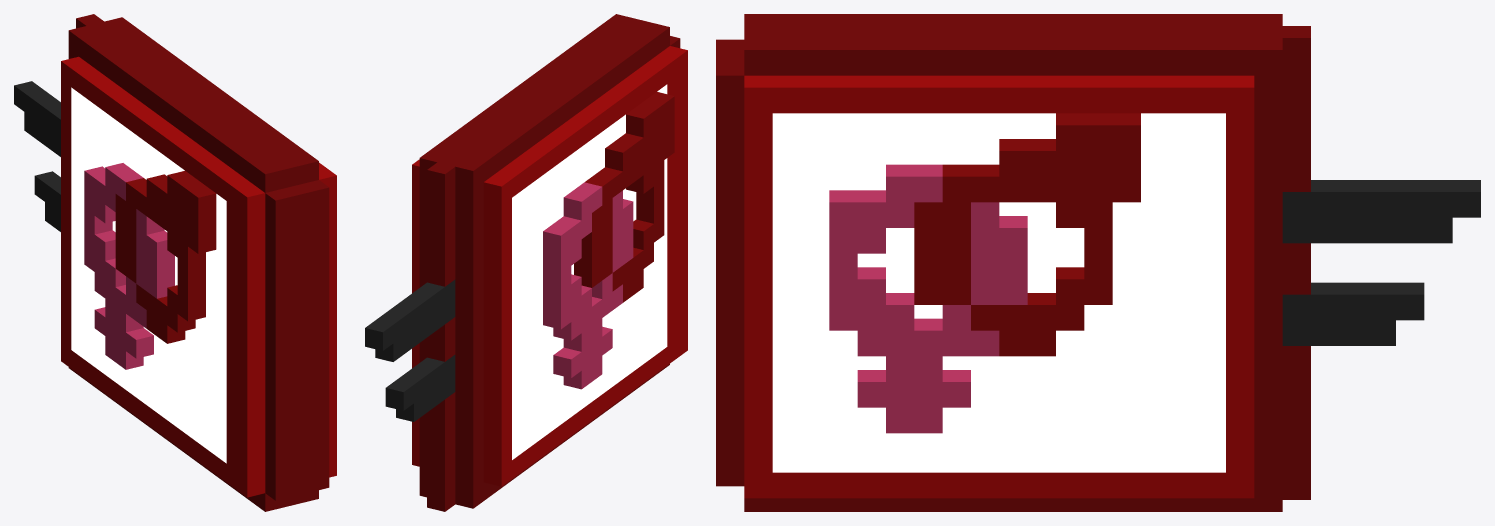
Rendered from adultStoreSign.glb.
3 views of the same model, side by side, from view 1: azimuth 30°, elevation 25°; view 2: azimuth 150°, elevation 25°; view 3: azimuth 270°, elevation 25° (orthographic). The views are drawn at different scales.
Visible parts, largest first — view 1: ObjObject; view 2: ObjObject; view 3: ObjObject.
Boxes of the visible parts, bbox=[...] form: ObjObject: bbox=[14, 14, 336, 511]; ObjObject: bbox=[365, 14, 687, 511]; ObjObject: bbox=[716, 14, 1480, 511].
Bounding box in the file's own units: 0.7 × 1.8 × 2.7.
Materials: 2 (1 with a texture image).
